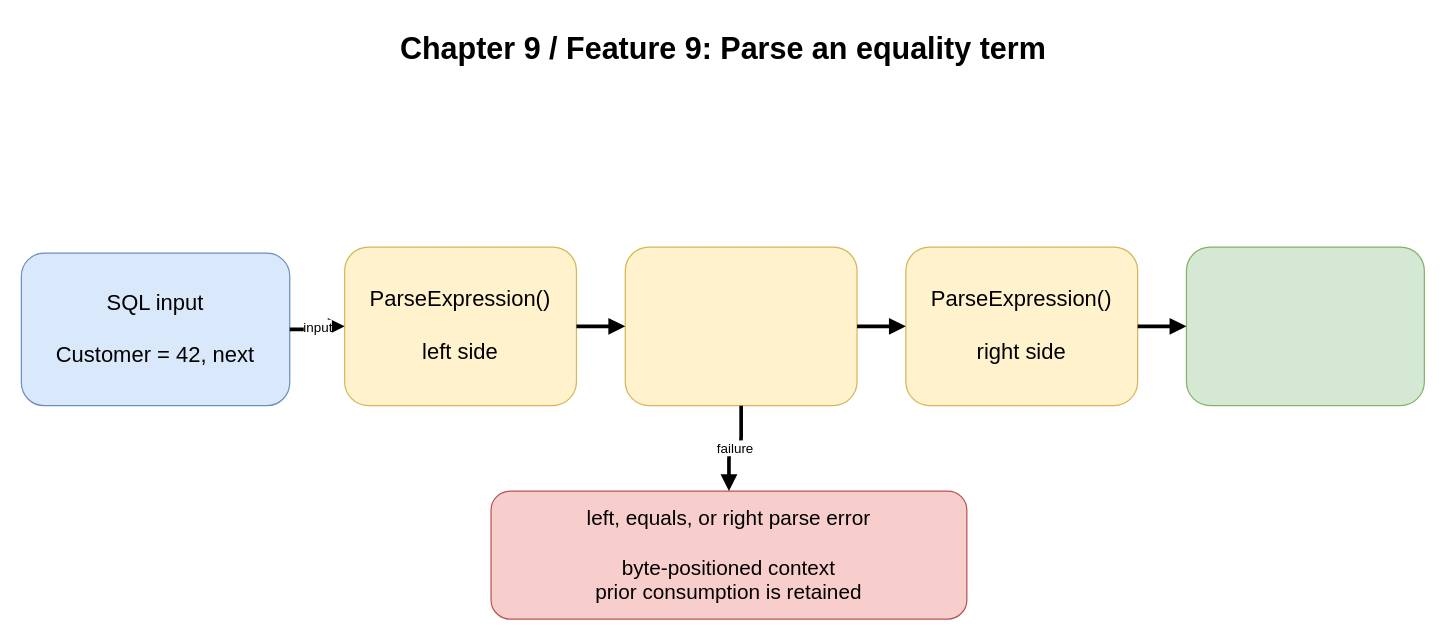
Some shapes in this 1446 by 641 pixel diagram are drawn without their labels. Here are the shapes that lost their labels. From the top down, the box of each, then its label:
(624, 246, 857, 406): EatDelimiter('=')
(1185, 246, 1424, 406): query.NewTerm(lhs, rhs) next token remains
